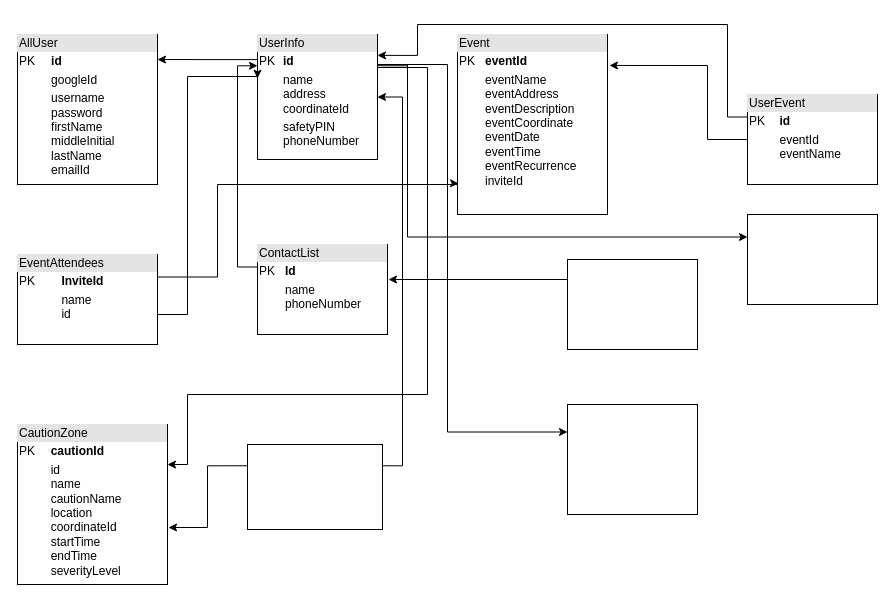
Image size: 895x602. Some labels were removed from this diagram. The centre of each missing label's shape, as x and y in pixels:
"Coordinates PK coordinateId coordinateX coordinateY" goes at [314,487].
"EmergencyContact PK Id name phoneNumber" goes at [632,304].
"Reports PK Id name descriptions values" goes at [812,259].
"Settings PK Id viewNextEvent viewCautionZone getNotification darkMode" goes at [632,459].
